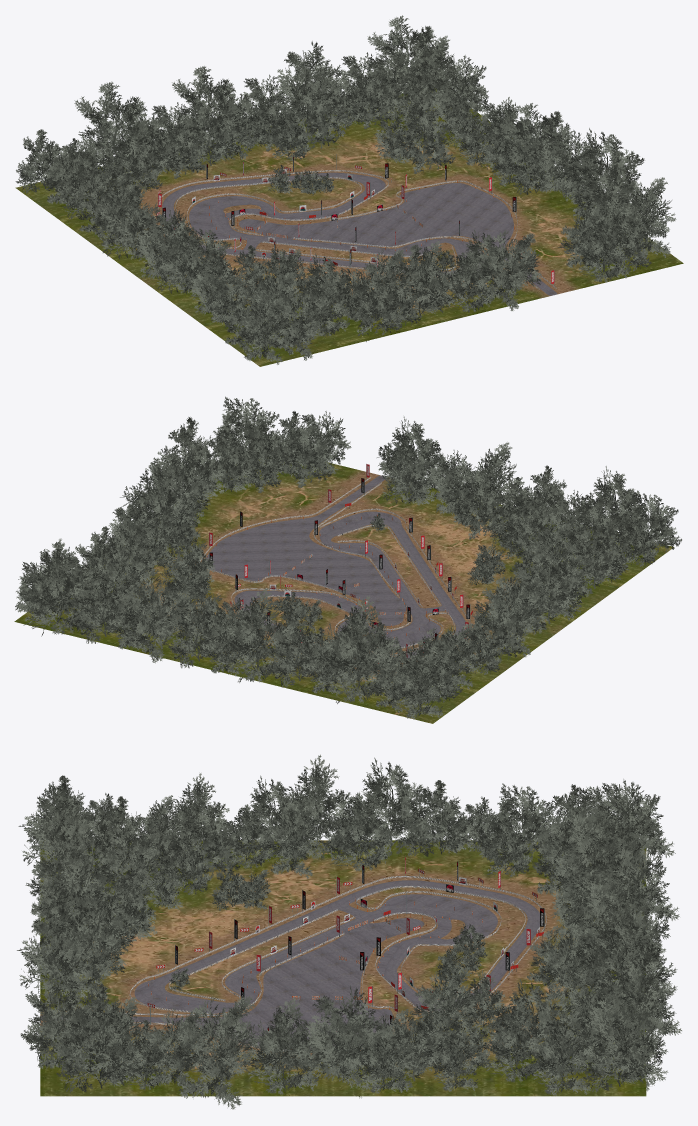
File: drift_race_track_free-compressed.glb
3 renders of one model, top to bottom at view 1: azimuth 30°, elevation 25°; view 2: azimuth 150°, elevation 25°; view 3: azimuth 270°, elevation 25°, orthographic. The views are drawn at different scales.
Visible parts, largest first — view 1: Terrain_0, Road_1, Bush024_170, Bush076_222, Bush086_232, Bush006_152, Bush028_174, Bush055_201, Bush034_180, Bush042_188, Bush089_235, Bush079_225 (+60 smaller); view 2: Terrain_0, Road_1, Bush024_170, Bush034_180, Bush042_188, Bush028_174, Bush079_225, Bush055_201, Bush076_222, Bush080_226, Bush086_232, Bush030_176 (+59 smaller); view 3: Terrain_0, Road_1, Bush024_170, Bush076_222, Bush042_188, Bush055_201, Bush034_180, Bush070_216, Bush028_174, Bush080_226, Bush078_224, Bush086_232 (+63 smaller).
Boxes of the visible parts, x1,y1,x2,y2 form: Terrain_0: (15, 88, 683, 366); Road_1: (162, 172, 557, 295); Bush024_170: (74, 81, 164, 172); Bush076_222: (565, 128, 644, 206); Bush086_232: (476, 230, 541, 310); Bush006_152: (271, 279, 335, 360); Bush028_174: (172, 66, 251, 152); Bush055_201: (496, 103, 574, 191); Bush034_180: (272, 41, 344, 128); Bush042_188: (367, 15, 447, 109); Bush089_235: (388, 244, 457, 320); Bush079_225: (134, 210, 200, 287); Terrain_0: (14, 460, 673, 723); Road_1: (205, 475, 465, 658); Bush024_170: (319, 595, 400, 703); Bush034_180: (117, 569, 197, 663); Bush042_188: (18, 538, 96, 636); Bush028_174: (223, 588, 294, 682); Bush079_225: (513, 553, 582, 634); Bush055_201: (120, 458, 196, 541); Bush076_222: (150, 417, 224, 498); Bush080_226: (483, 577, 548, 657); Bush086_232: (377, 416, 445, 494); Bush030_176: (168, 603, 227, 668); Terrain_0: (40, 840, 646, 1096); Road_1: (41, 880, 539, 1050); Bush024_170: (565, 779, 675, 903); Bush076_222: (168, 995, 263, 1109); Bush042_188: (587, 971, 681, 1091); Bush055_201: (305, 985, 387, 1098); Bush034_180: (571, 903, 677, 1009); Bush070_216: (56, 999, 146, 1092); Bush028_174: (583, 852, 679, 945); Bush080_226: (346, 757, 438, 856); Bush078_224: (248, 997, 320, 1094); Bush086_232: (17, 907, 95, 998).
Bounding box in the file's own units: 508 × 110 × 509.
5 materials, 4 textured.
